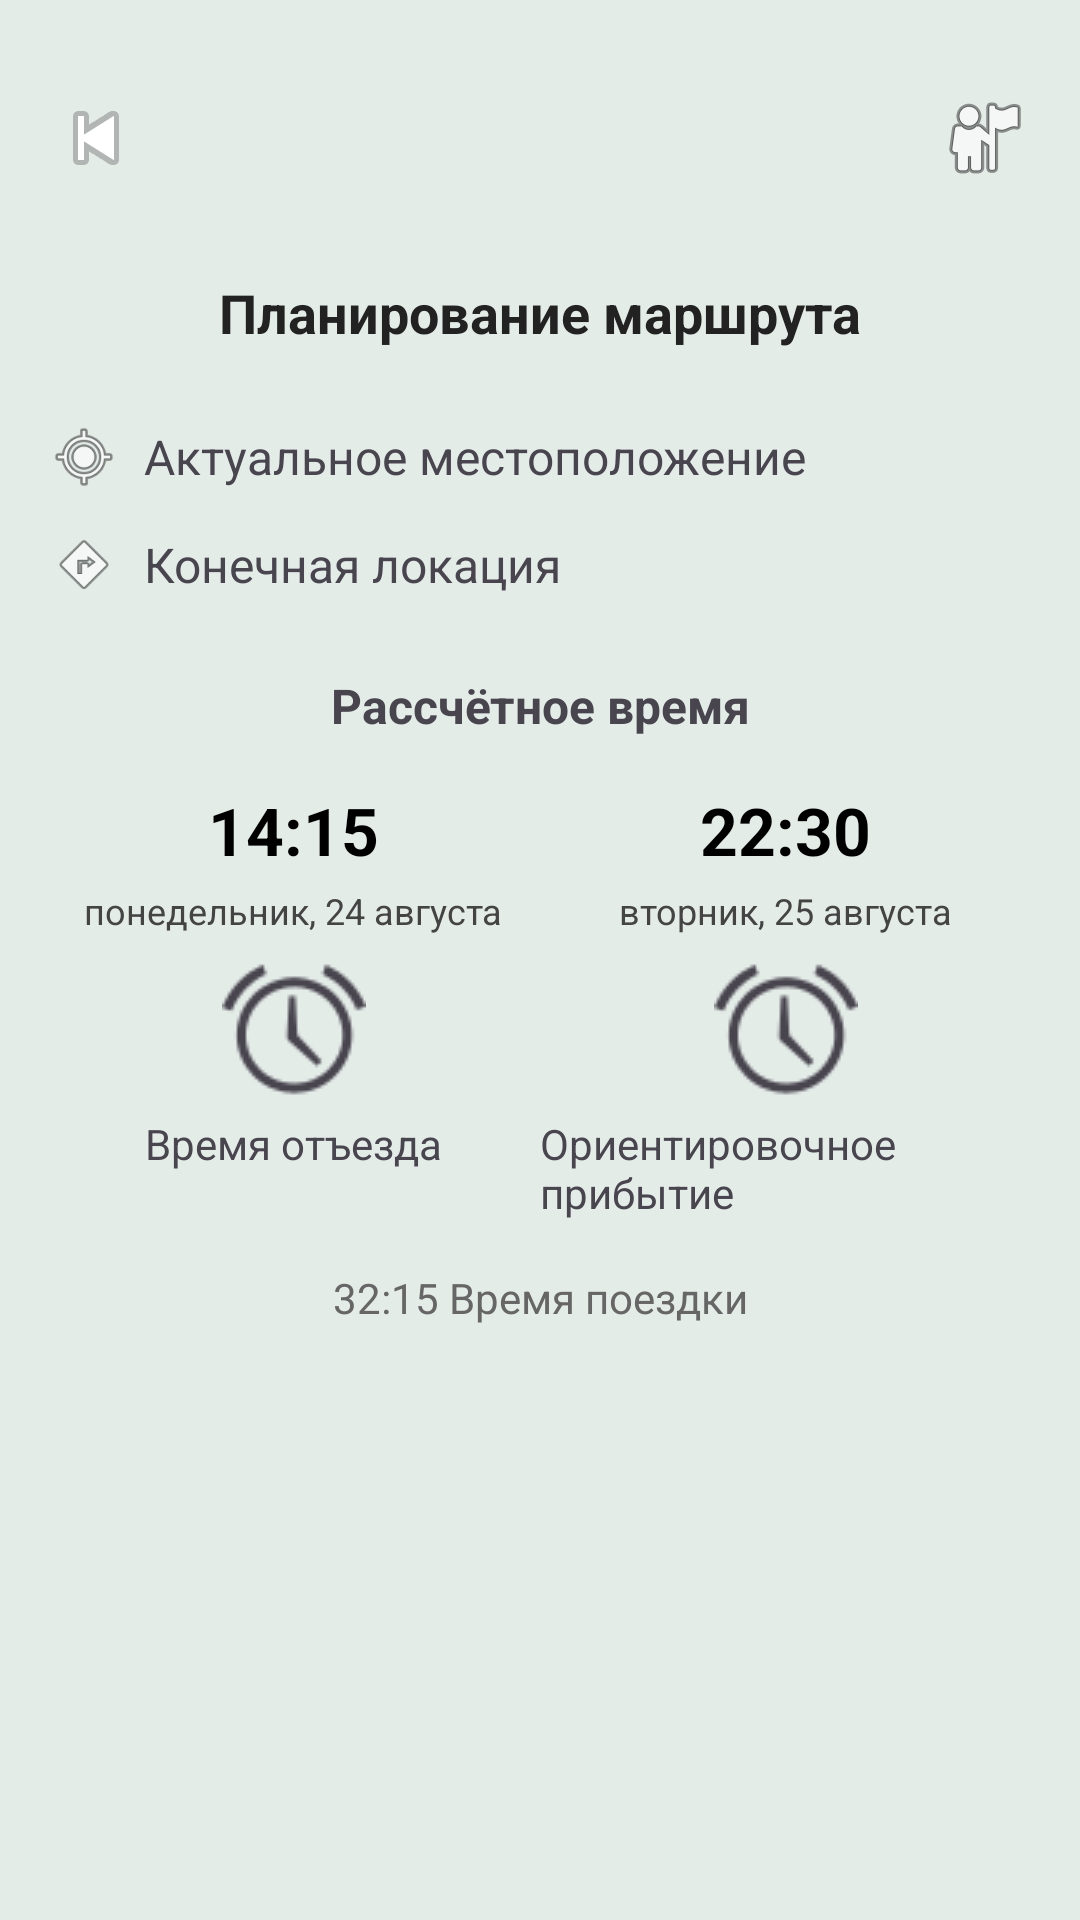

Screen size 1080*1920. Icon name, then its box in pixels as (x1, y1, x2, y2):
directions: (59, 540, 109, 589)
lock idle alarm: (222, 964, 366, 1095), (714, 964, 858, 1095)
mylocation: (55, 428, 113, 486)
myplaces: (949, 102, 1021, 174)
previous: (73, 111, 119, 165)
